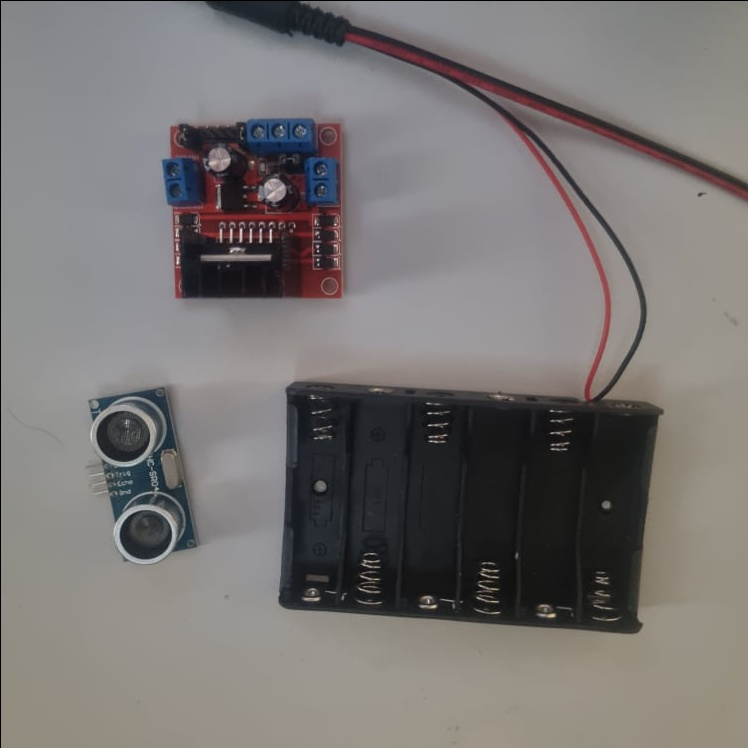BATTERY BOX: (275, 382, 665, 637)
MOTOR: (161, 118, 344, 299)
SENSOR: (82, 384, 198, 569)
